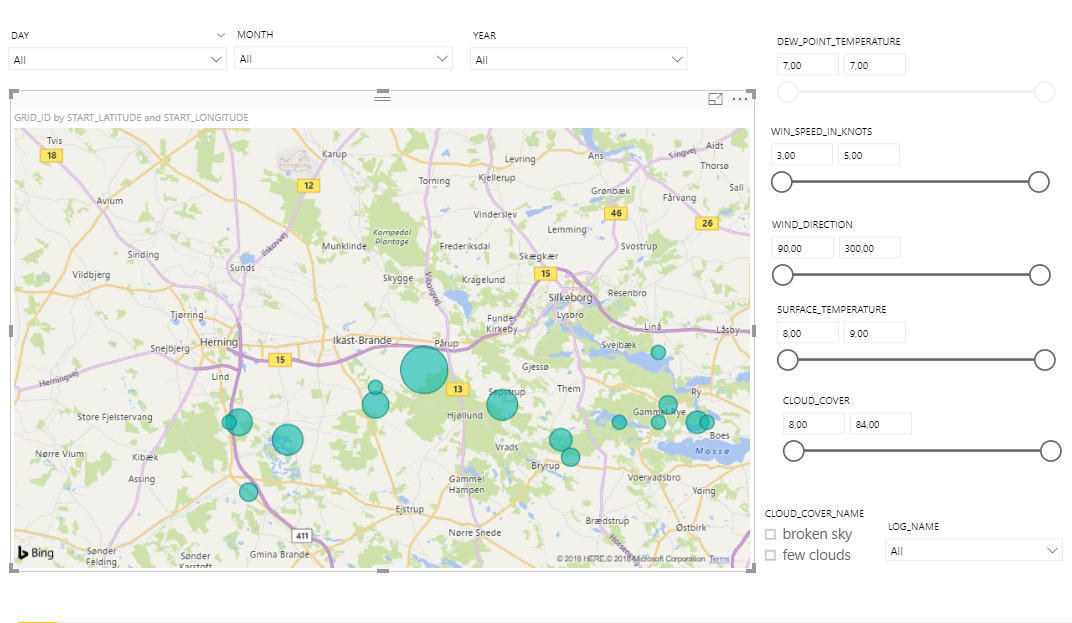

The page's visual inventory and layout, read from the dashboard file:
{"tool":"powerbi","page":{"name":"Page 1","canvas":[1280,720],"ordinal":0},"visuals":[{"type":"map","fields":{"Y":["SEP_POWER_BI.START_LATITUDE"],"X":["SEP_POWER_BI.START_LONGITUDE"],"Size":["CountNonNull(SEP_POWER_BI.GRID_ID)"]},"box":[12.2,109.5,889.4,551.5],"z":1},{"type":"slicer","fields":{"Values":["SEP_POWER_BI.DAY"]},"box":[0,6.8,281.1,114.9],"z":2},{"type":"slicer","fields":{"Values":["SEP_POWER_BI.MONTH"]},"box":[270.3,5.4,281.1,132.5],"z":3},{"type":"slicer","fields":{"Values":["SEP_POWER_BI.YEAR"]},"box":[551.5,6.8,279.8,112.2],"z":4},{"type":"slicer","fields":{"Values":["SEP_POWER_BI.CLOUD_COVER"]},"box":[921.8,443.3,356.8,104.1],"z":6},{"type":"slicer","fields":{"Values":["SEP_POWER_BI.CLOUD_COVER_NAME"]},"box":[900.2,578.5,175.7,137.9],"z":6},{"type":"slicer","fields":{"Values":["SEP_POWER_BI.WIN_SPEED_IN_KNOTS"]},"box":[906.9,121.6,356.8,108.1],"z":7},{"type":"slicer","fields":{"Values":["SEP_POWER_BI.WIND_DIRECTION"]},"box":[908.3,232.5,356.8,124.4],"z":8},{"type":"slicer","fields":{"Values":["SEP_POWER_BI.SURFACE_TEMPERATURE"]},"box":[915.1,333.9,356.8,150],"z":9},{"type":"slicer","fields":{"Values":["SEP_POWER_BI.DEW_POINT_TEMPERATURE"]},"box":[915.1,14.9,356.8,150],"z":10},{"type":"slicer","fields":{"Values":["SEP_POWER_BI.LOG_NAME"]},"box":[1047.5,593.4,232.5,127.1],"z":11}]}

Visuals, with their boxes on the page's 1280x720 design canvas (x1, y1, x2, y2). These are canvas units, not pixel positions in the 1072x623 screenshot, which may show the page scaled, cropped or inside an application window:
map - SEP_POWER_BI.START_LATITUDE x SEP_POWER_BI.START_LONGITUDE: x1=12, y1=110, x2=902, y2=661
slicer - SEP_POWER_BI.DAY: x1=0, y1=7, x2=281, y2=122
slicer - SEP_POWER_BI.MONTH: x1=270, y1=5, x2=551, y2=138
slicer - SEP_POWER_BI.YEAR: x1=552, y1=7, x2=831, y2=119
slicer - SEP_POWER_BI.CLOUD_COVER: x1=922, y1=443, x2=1279, y2=547
slicer - SEP_POWER_BI.CLOUD_COVER_NAME: x1=900, y1=578, x2=1076, y2=716
slicer - SEP_POWER_BI.WIN_SPEED_IN_KNOTS: x1=907, y1=122, x2=1264, y2=230
slicer - SEP_POWER_BI.WIND_DIRECTION: x1=908, y1=232, x2=1265, y2=357
slicer - SEP_POWER_BI.SURFACE_TEMPERATURE: x1=915, y1=334, x2=1272, y2=484
slicer - SEP_POWER_BI.DEW_POINT_TEMPERATURE: x1=915, y1=15, x2=1272, y2=165
slicer - SEP_POWER_BI.LOG_NAME: x1=1048, y1=593, x2=1280, y2=720
